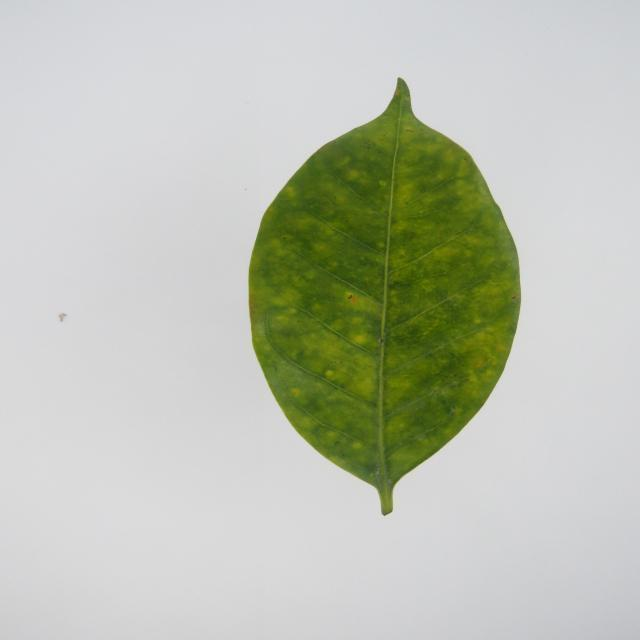DeficienciaNutricional-Magnesio: (250, 79, 520, 514)
